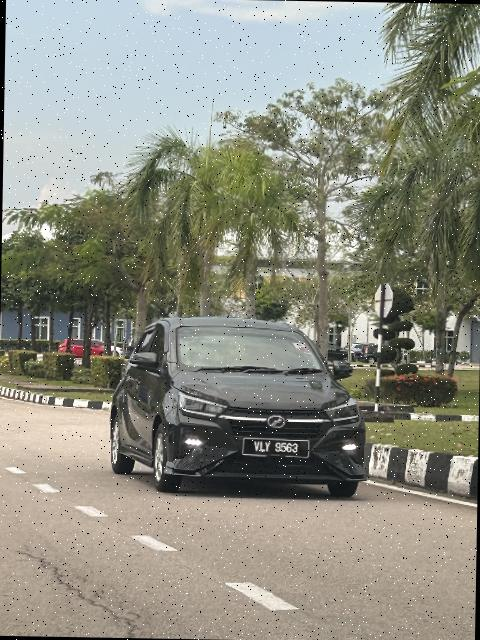License_Plate: (243, 438, 309, 460)
car: (101, 309, 373, 504)
